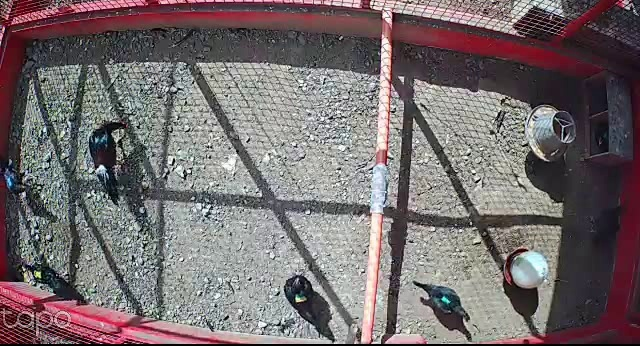Chicken: (280, 272, 323, 336), (413, 281, 473, 323), (585, 201, 629, 256), (0, 166, 34, 198)
Rooster: (89, 112, 133, 208)
Saddle_Color_Blue: (7, 177, 11, 186)
Saddle_Color_YellowGreen: (294, 291, 308, 304)
